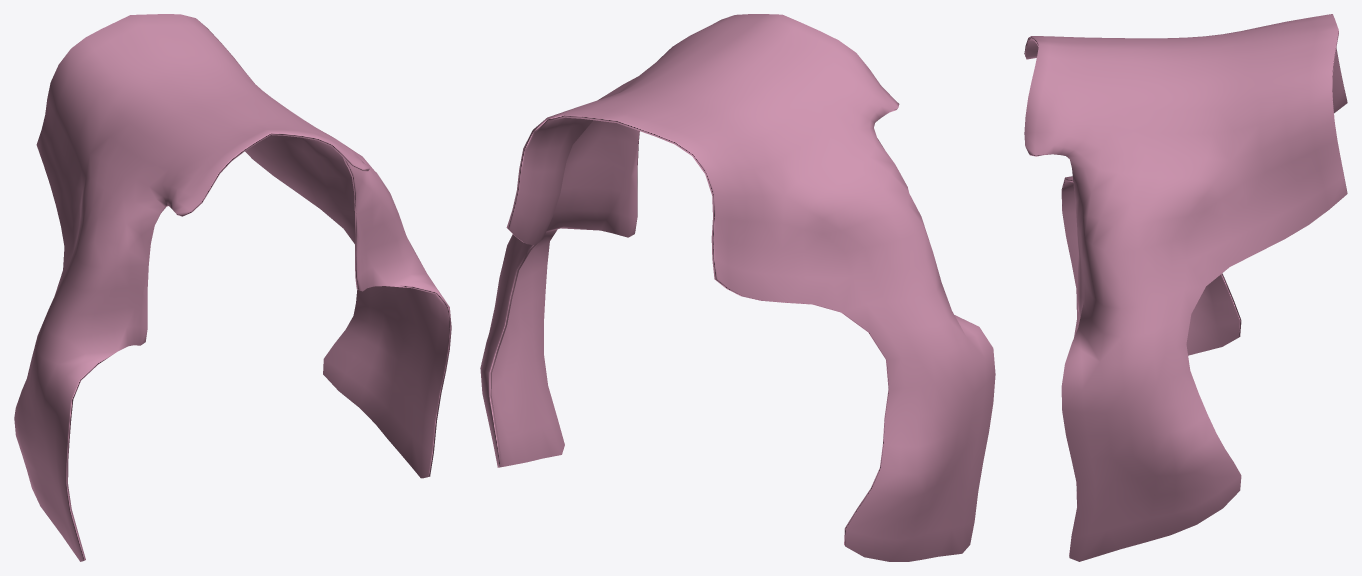
3 views of the same model, side by side, from view 1: azimuth 30°, elevation 25°; view 2: azimuth 150°, elevation 25°; view 3: azimuth 270°, elevation 25° (orthographic). The views are drawn at different scales.
Visible parts, largest first — view 1: 口咽; view 2: 口咽; view 3: 口咽.
Part boxes in pixels (left/top/right/bottom): 口咽: left=14, top=14, right=451, bottom=561; 口咽: left=480, top=14, right=995, bottom=561; 口咽: left=1024, top=14, right=1347, bottom=561.
Bounding box in the file's own units: 0.0967 × 0.0986 × 0.0651.
